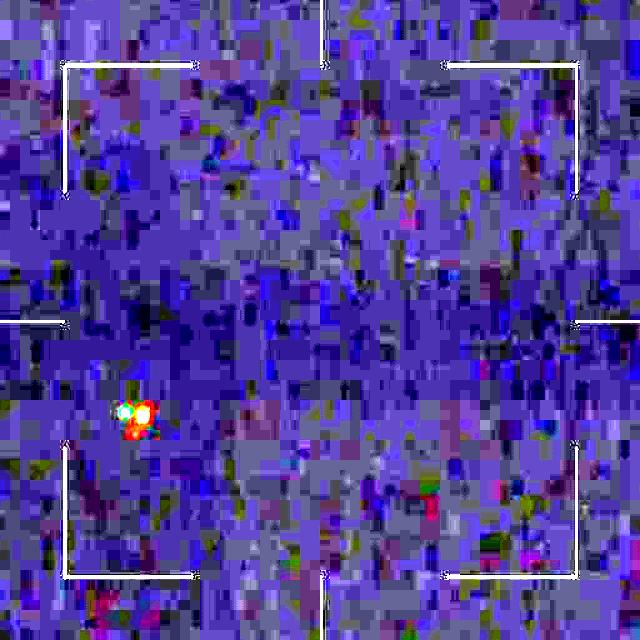bird: (116, 395, 152, 438)
